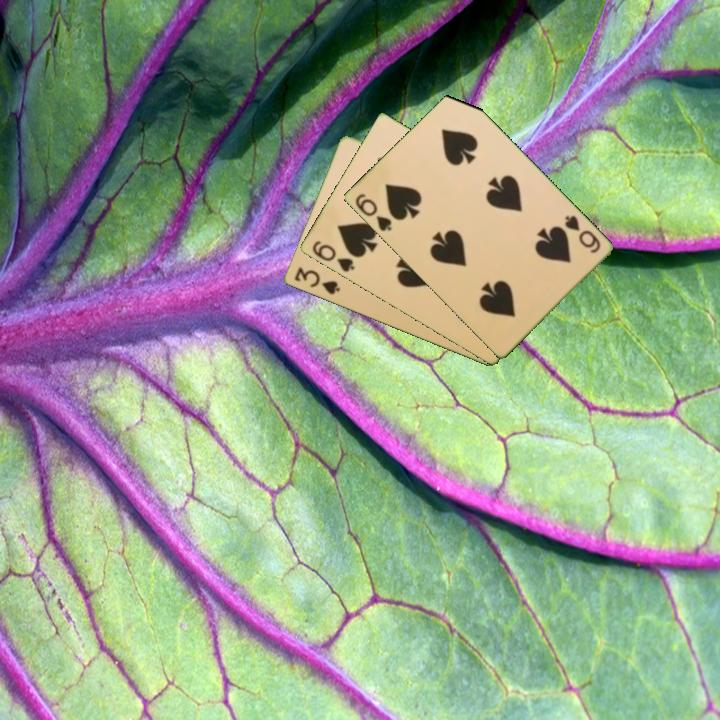3s: (290, 264, 343, 298)
6s: (560, 211, 603, 256), (351, 190, 394, 234), (308, 237, 357, 275)
